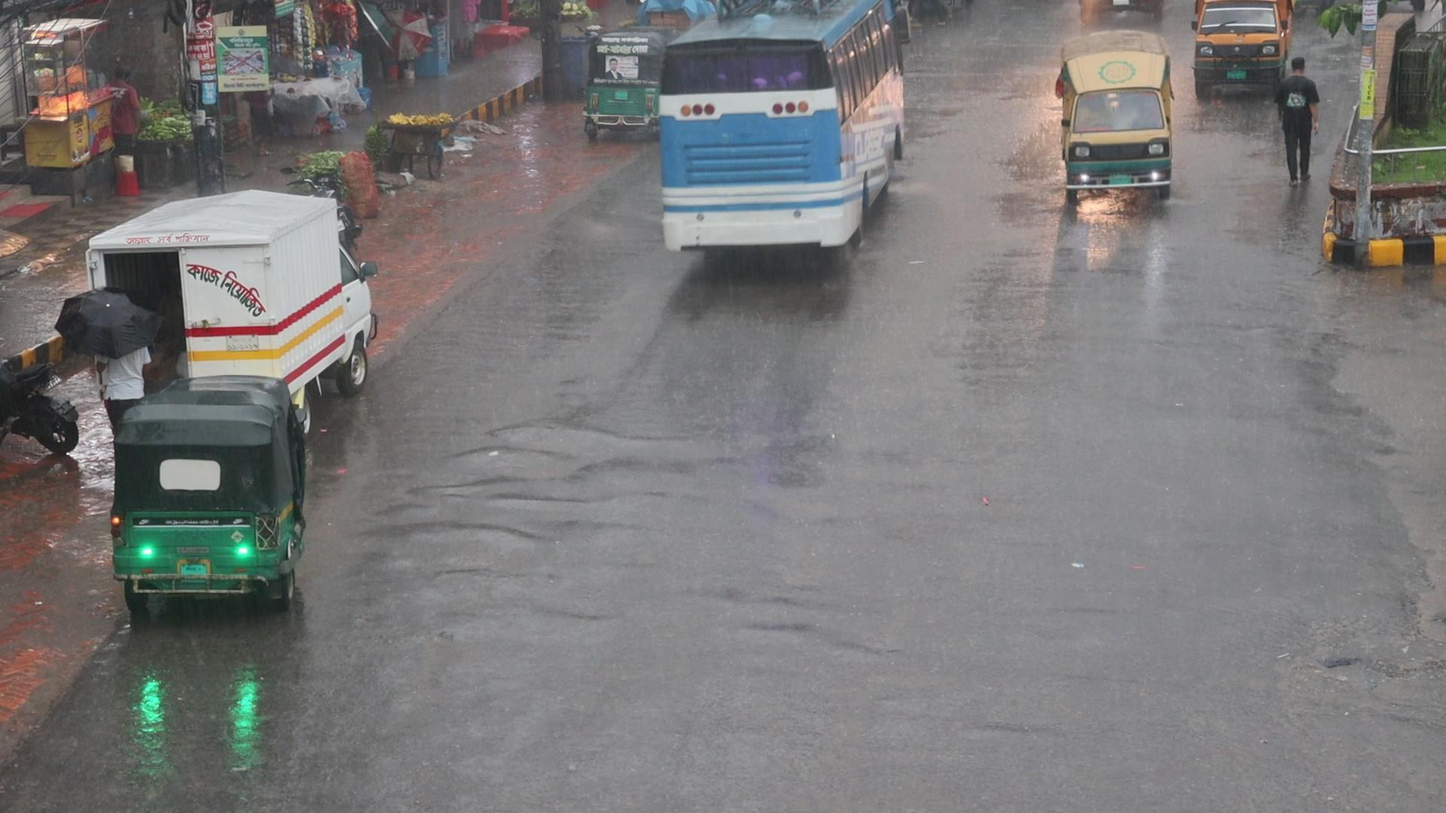Bus: (667, 5, 905, 269)
Truck: (1054, 46, 1184, 222), (1186, 0, 1303, 116)
